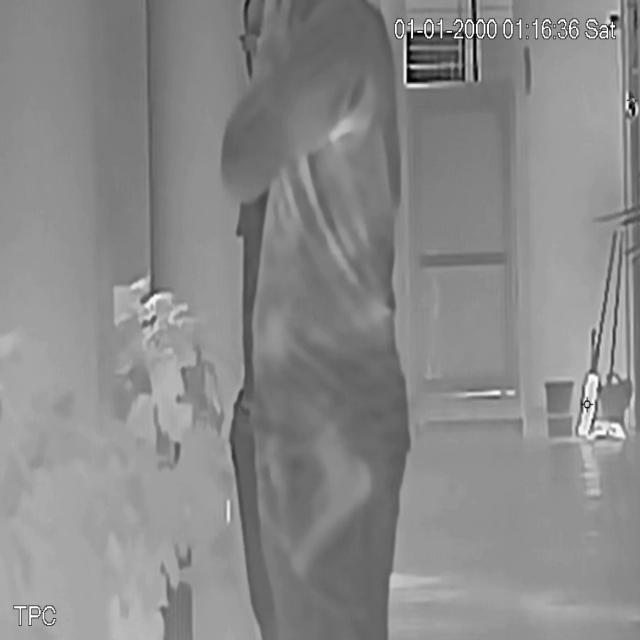Weapon: (284, 420, 387, 583)
